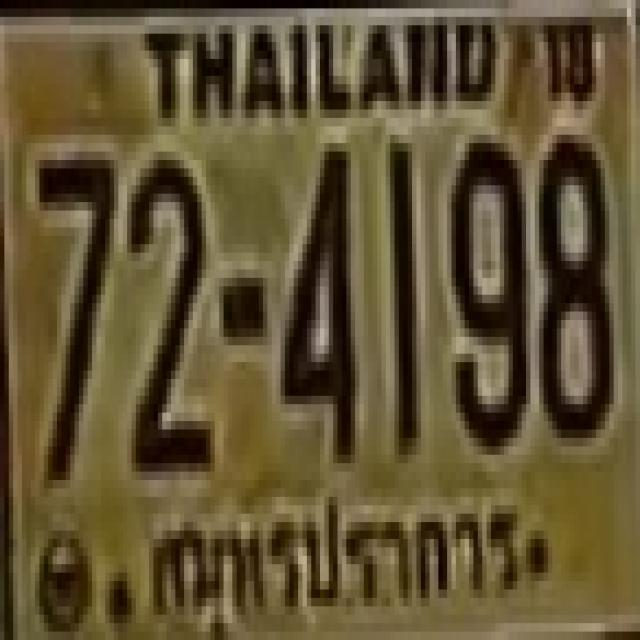1: (386, 135, 412, 446)
2: (130, 152, 208, 463)
4: (280, 139, 350, 450)
7: (35, 152, 110, 472)
8: (535, 126, 609, 430)
9: (447, 135, 522, 446)
SPK: (148, 496, 548, 624)
